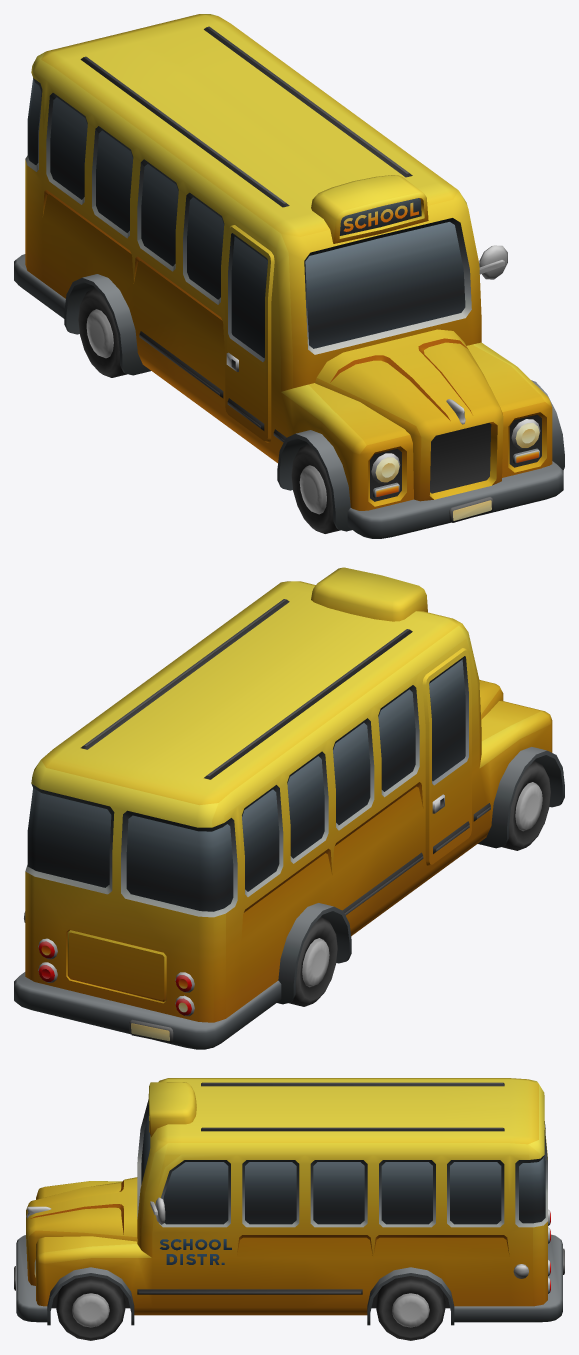
The model's file is Car_15C.fbx.
3 renders of one model, top to bottom at view 1: azimuth 30°, elevation 25°; view 2: azimuth 150°, elevation 25°; view 3: azimuth 270°, elevation 25°, orthographic. The views are drawn at different scales.
Parts seen in each view (by area): view 1: Car_15C, Wheel_15C_F.R, Wheel_15C_R.R; view 2: Car_15C, Wheel_15C_R.R, Wheel_15C_F.R; view 3: Car_15C, Wheel_15C_R.L, Wheel_15C_F.L, Livery_15C.
Boxes of the visible parts, x1,y1,x2,y2 form: Car_15C: (14,14,564,538); Wheel_15C_F.R: (291,444,340,533); Wheel_15C_R.R: (78,288,127,377); Car_15C: (14,567,564,1049); Wheel_15C_R.R: (288,917,337,1006); Wheel_15C_F.R: (502,761,550,850); Car_15C: (14,1078,564,1325); Wheel_15C_R.L: (376,1276,445,1340); Wheel_15C_F.L: (56,1276,125,1340); Livery_15C: (160,1239,231,1264).
Size of the model in its own units: 331 by 351 by 845.
